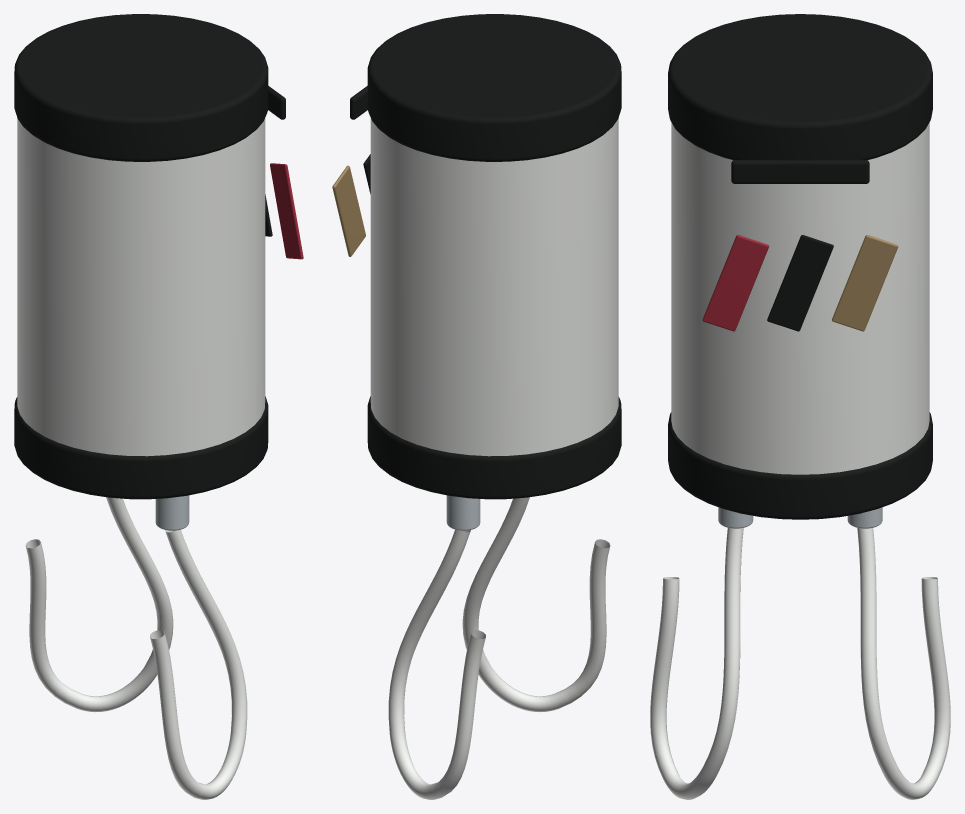
The model's file is compact_geyser.glb.
3 views of the same model, side by side, from view 1: azimuth 30°, elevation 25°; view 2: azimuth 150°, elevation 25°; view 3: azimuth 270°, elevation 25° (orthographic). The views are drawn at different scales.
Parts seen in each view (by area): view 1: Cream insulated tank, Black end cap.001, Black end cap, Flexible heater hose, Flexible heater hose.001, Vintage coloured decal, Heater valve; view 2: Cream insulated tank, Black end cap.001, Black end cap, Flexible heater hose.001, Flexible heater hose, Vintage coloured decal.002, Heater valve.001; view 3: Cream insulated tank, Black end cap.001, Black end cap, Flexible heater hose, Flexible heater hose.001, Heater badge, Vintage coloured decal.002, Vintage coloured decal, Vintage coloured decal.001, Heater valve, Heater valve.001.
Part boxes in pixels (left/top/right/bottom): Cream insulated tank: left=17, top=118, right=265, bottom=456; Black end cap.001: left=14, top=14, right=268, bottom=161; Black end cap: left=14, top=396, right=268, bottom=499; Flexible heater hose: left=150, top=529, right=247, bottom=799; Flexible heater hose.001: left=25, top=497, right=173, bottom=712; Vintage coloured decal: left=270, top=163, right=303, bottom=259; Heater valve: left=155, top=495, right=189, bottom=530; Cream insulated tank: left=370, top=118, right=618, bottom=456; Black end cap.001: left=367, top=14, right=621, bottom=161; Black end cap: left=367, top=396, right=621, bottom=499; Flexible heater hose.001: left=388, top=529, right=485, bottom=799; Flexible heater hose: left=462, top=497, right=610, bottom=712; Vintage coloured decal.002: left=332, top=165, right=365, bottom=256; Heater valve.001: left=446, top=495, right=480, bottom=530; Cream insulated tank: left=671, top=122, right=929, bottom=474; Black end cap.001: left=668, top=14, right=932, bottom=160; Black end cap: left=668, top=412, right=932, bottom=519; Flexible heater hose: left=650, top=528, right=743, bottom=799; Flexible heater hose.001: left=857, top=528, right=950, bottom=799; Heater badge: left=731, top=160, right=869, bottom=183; Vintage coloured decal.002: left=832, top=235, right=898, bottom=331; Vintage coloured decal: left=702, top=235, right=769, bottom=331; Vintage coloured decal.001: left=767, top=235, right=833, bottom=331; Heater valve: left=718, top=507, right=753, bottom=528; Heater valve.001: left=847, top=507, right=882, bottom=528.
Bounding box in the file's own units: 0.2945 × 0.8609 × 0.3256.
